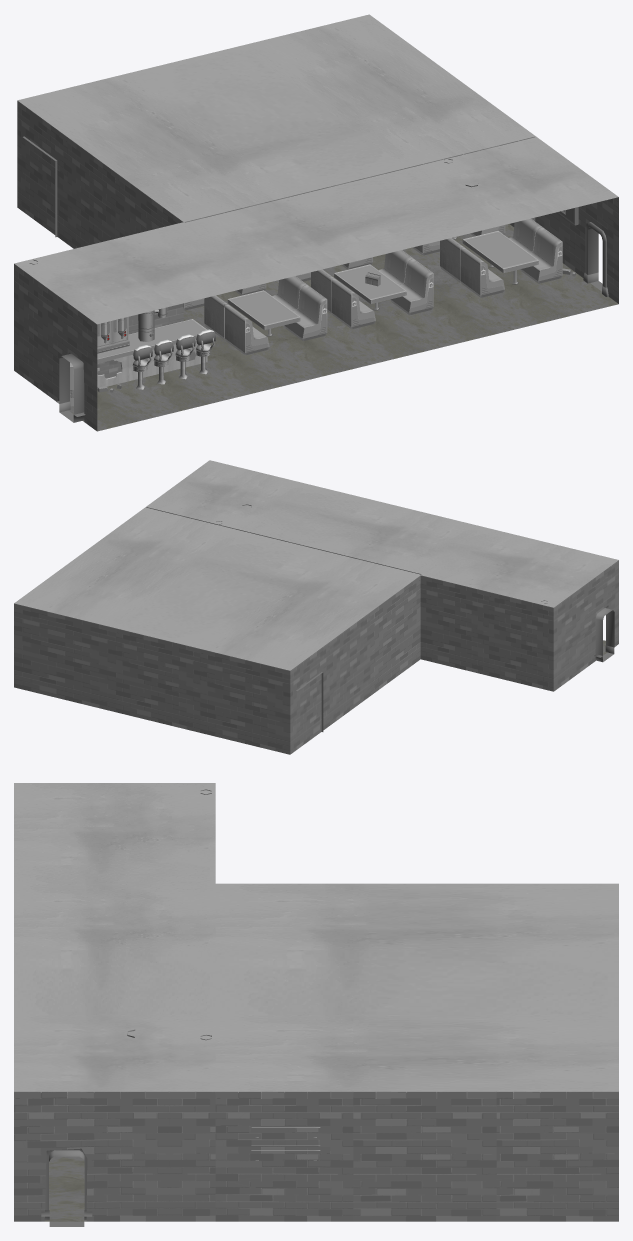
File: MSH_cafeteria_l3_R3_Railroad_optimized.fbx
3 renders of one model, top to bottom at view 1: azimuth 30°, elevation 25°; view 2: azimuth 150°, elevation 25°; view 3: azimuth 270°, elevation 25°, orthographic. The views are drawn at different scales.
Parts seen in each view (by area): view 1: lightmap0; view 2: lightmap0; view 3: lightmap0.
Part boxes in pixels (x1=…): lightmap0: x1=14, y1=14, x2=618, y2=431; lightmap0: x1=14, y1=460, x2=618, y2=754; lightmap0: x1=14, y1=783, x2=618, y2=1226.
Bounding box in the file's own units: 30.91 × 6 × 24.77.
7 materials, 6 textured.
